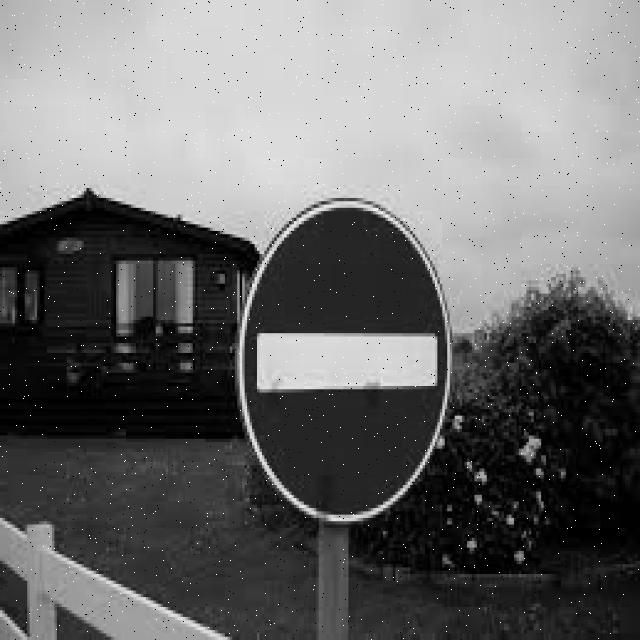no entry: (240, 195, 452, 521)
